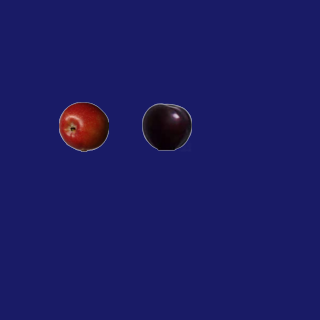Apple Braeburn: (58, 101, 108, 151)
Cherry Wax Black: (141, 101, 191, 151)
